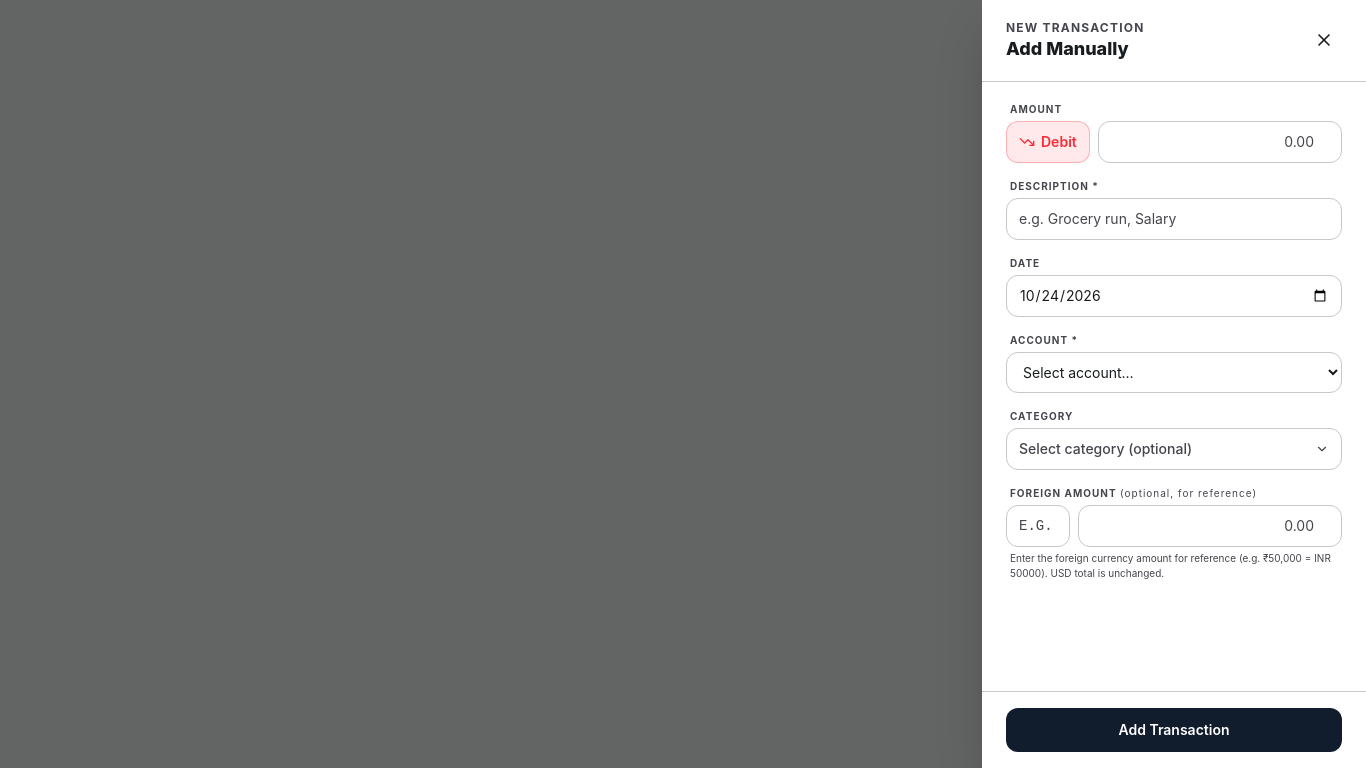
it: AddTransactionModal › shows validation error when amount is 0
The width and height of the screenshot is (1366, 768).
In the number field named "Amount": (1220, 142) [1098,120,1342,162], type "0"
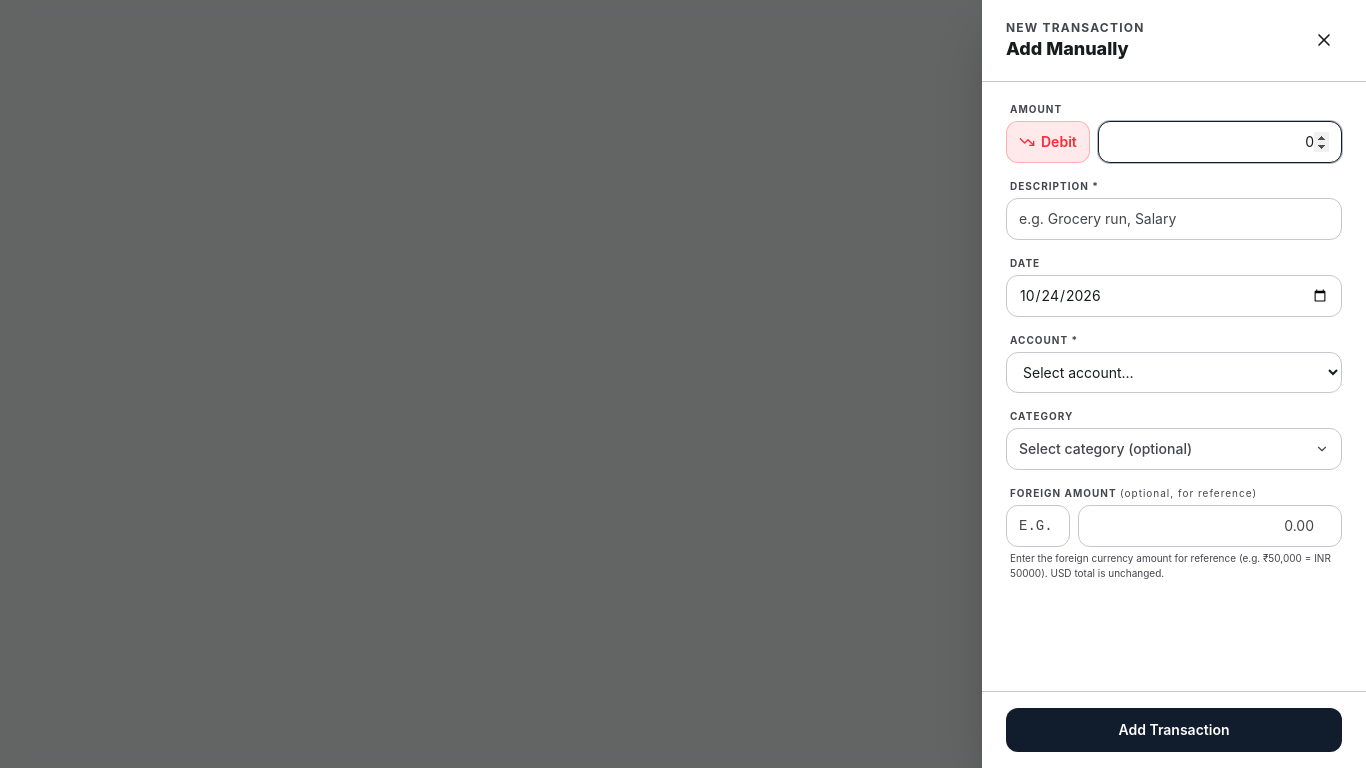
Click the button "Add Transaction": click(1174, 730) [1006,708,1342,752]
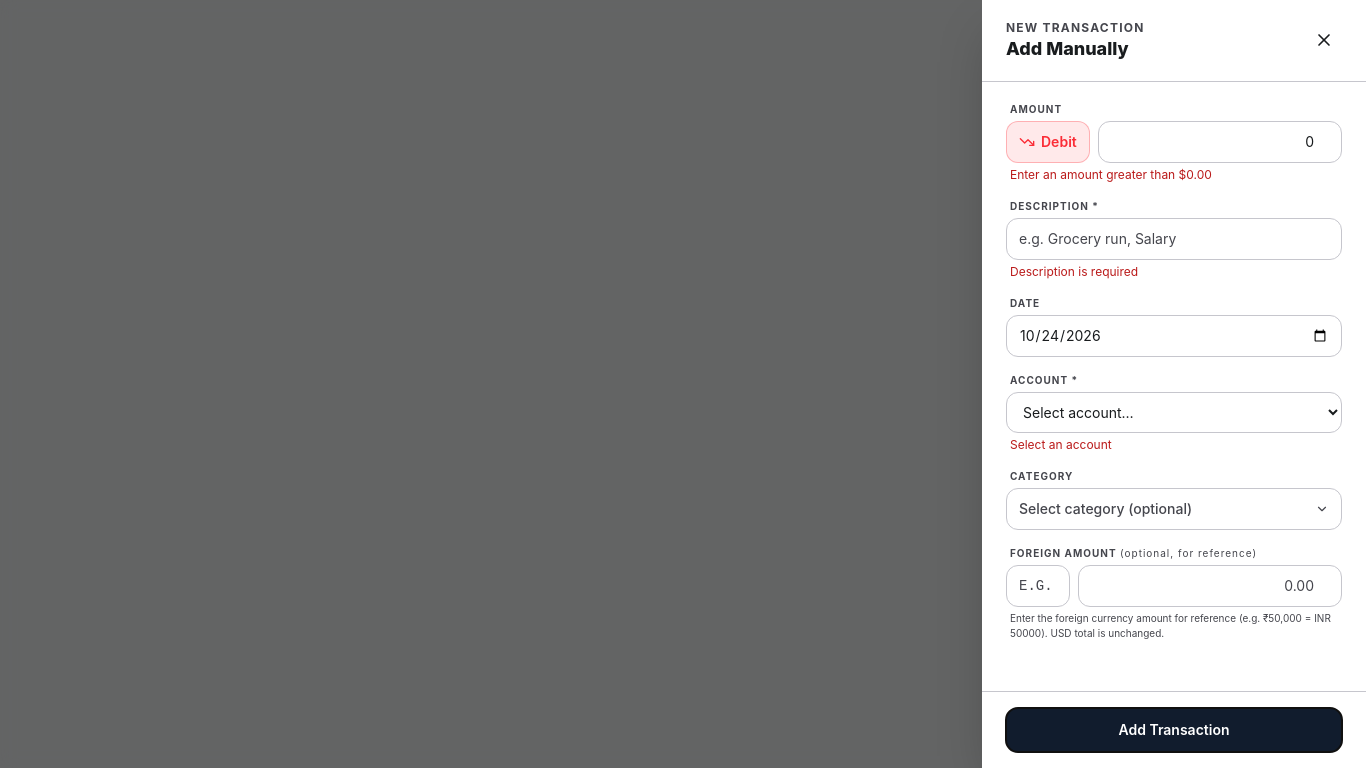
Expected: the text "Enter an amount greater than $0.00" is shown, [1010,166,1212,182]
